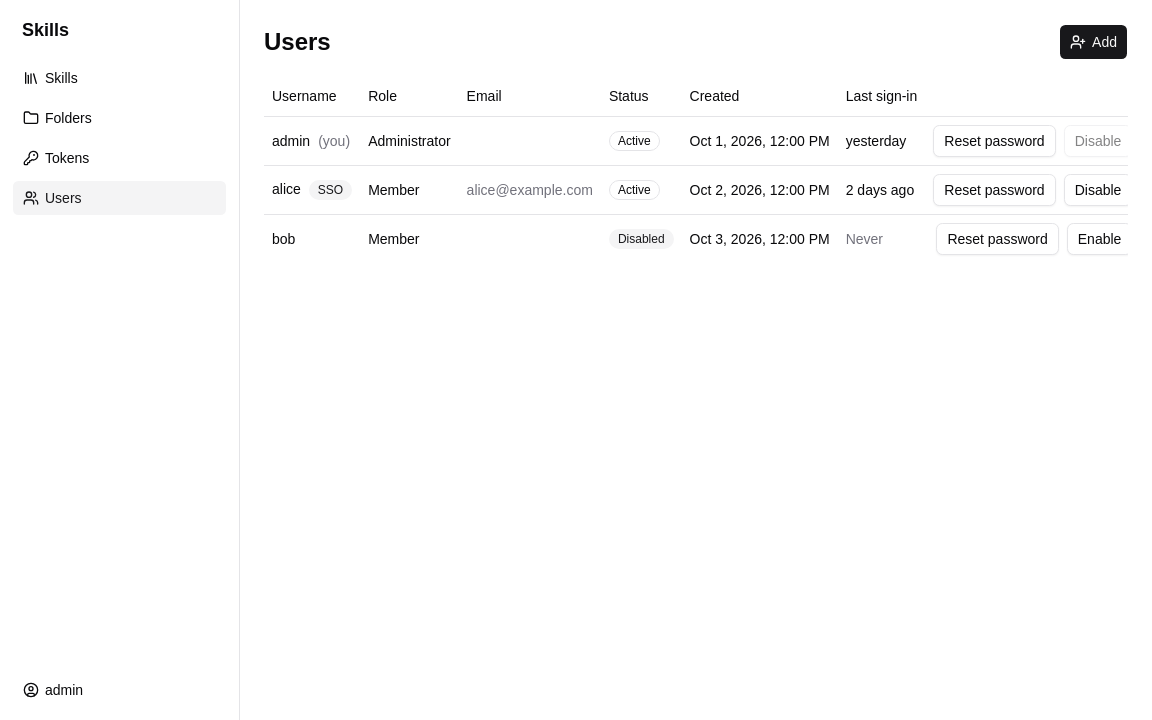
Test case: users page › "Disable" and "Enable" ask first, then toggle
The image size is (1152, 720).
Check: the text "alice" is shown, box [272,181,301,197]
Click the button "Disable" in the row of "SSO" at (1098, 190), box [1064,174,1132,206]
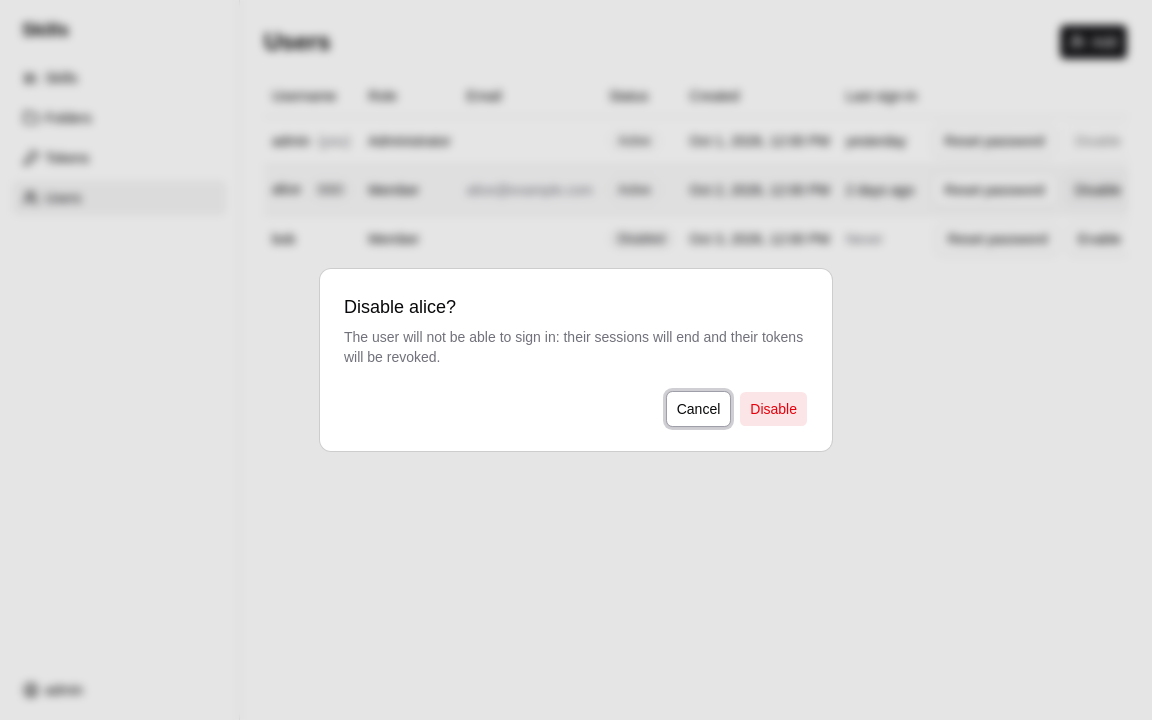
Check: the heading "Disable alice?" is shown, box [344,293,456,321]
Click the button "Disable" at (774, 409), box [739,391,808,427]
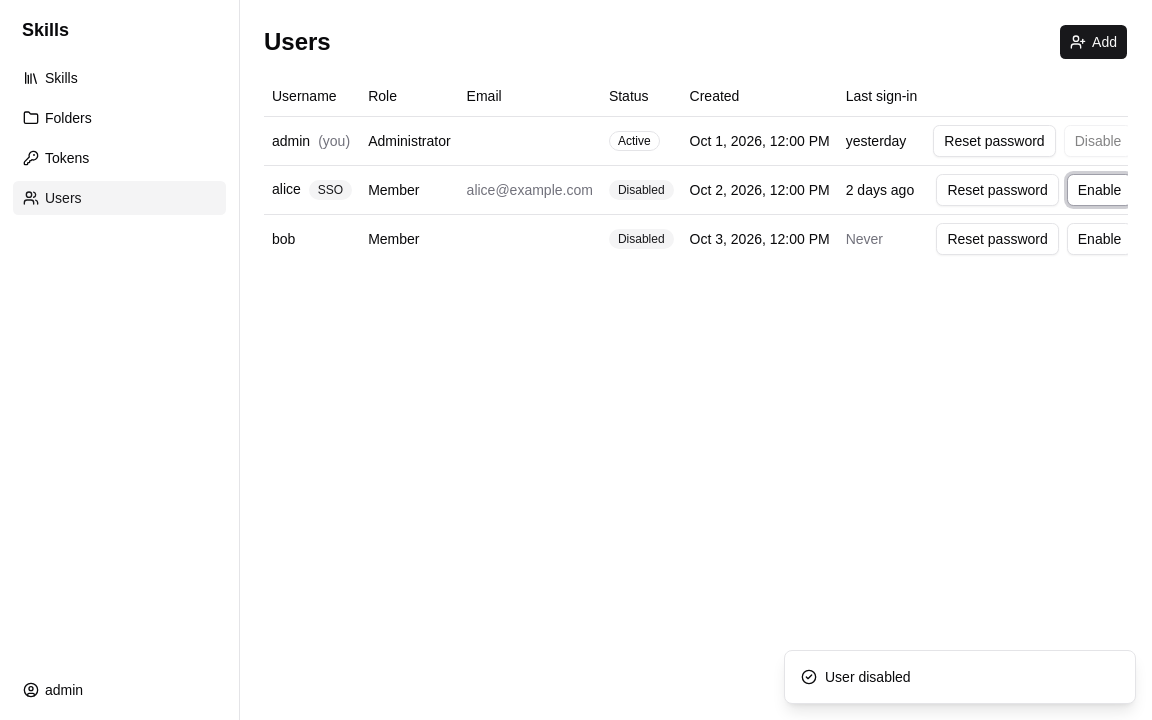
Check: the text "Disabled" in the row of "SSO" is shown, box [618,183,665,197]
Click the button "Enable" in the row of "bob" at (1100, 238), box [1067,222,1132,254]
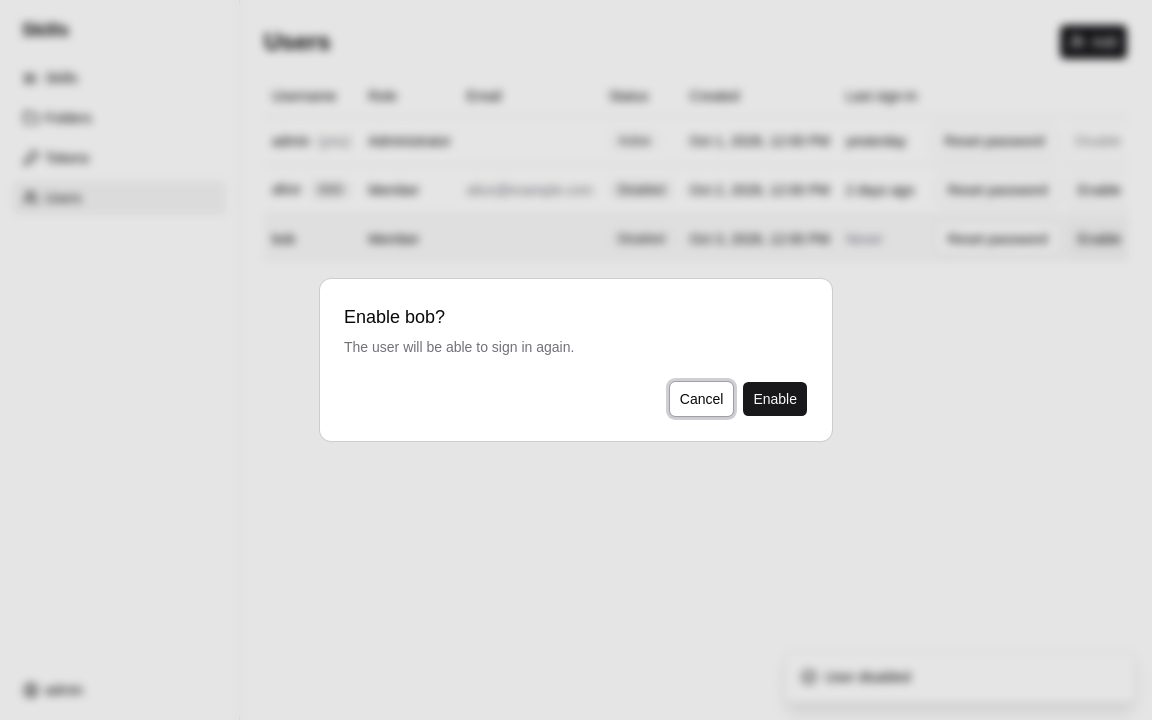
Click the button "Enable" at (775, 399), box [742,381,808,417]
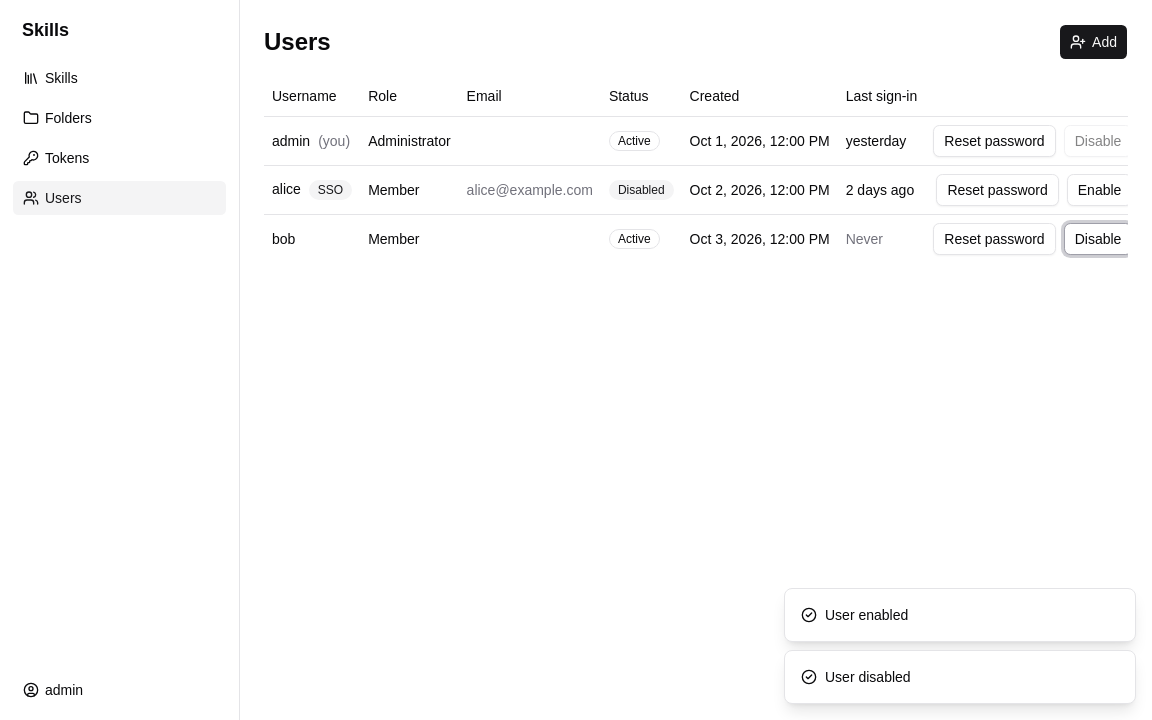
Check: the icon "Active" in the row of "bob" is shown, box [618,232,651,246]
